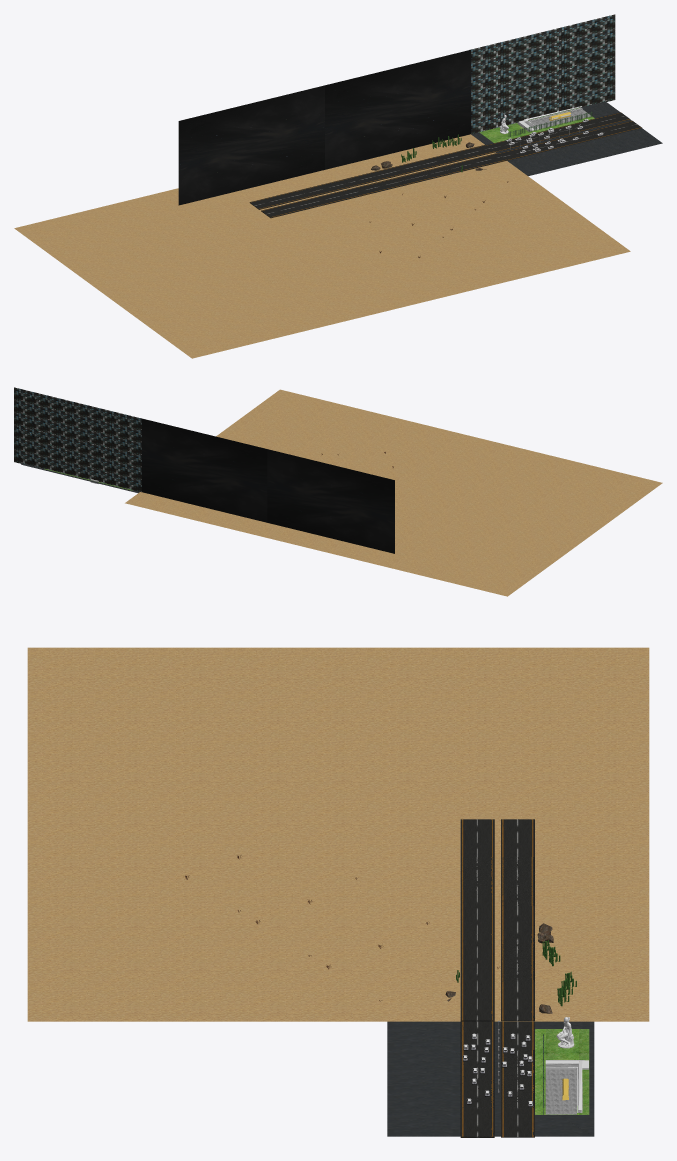
3 views of the same model, one above another, from view 1: azimuth 30°, elevation 25°; view 2: azimuth 150°, elevation 25°; view 3: azimuth 270°, elevation 25° (orthographic). The views are drawn at different scales.
Visible parts, largest first — view 1: PISO STUDIO, EDIFICIOS, EDIFICIOS.001, CALLES.002, PISO STUDIO.001, CALLES.001, PASTO ESTACIÓN.001, ESTACIÓN.026, Jeep_Renegade_2016; view 2: PISO STUDIO, EDIFICIOS, EDIFICIOS.001; view 3: PISO STUDIO, CALLES.002, PISO STUDIO.001, CALLES.001, PASTO ESTACIÓN.001, ESTACIÓN.026, Jeep_Renegade_2016.
Boxes of the visible parts, x1,y1,x2,y2 form: PISO STUDIO: (14,134,630,358); EDIFICIOS: (178,50,471,205); EDIFICIOS.001: (470,14,615,133); CALLES.002: (249,144,506,218); PISO STUDIO.001: (471,101,662,176); CALLES.001: (486,112,641,160); PASTO ESTACIÓN.001: (479,107,594,142); ESTACIÓN.026: (524,106,590,128); Jeep_Renegade_2016: (506,119,603,153); PISO STUDIO: (125,389,662,596); EDIFICIOS: (141,418,394,553); EDIFICIOS.001: (14,387,141,491); PISO STUDIO: (27,647,649,1021); CALLES.002: (460,819,534,1021); PISO STUDIO.001: (387,1021,594,1136); CALLES.001: (460,1021,534,1137); PASTO ESTACIÓN.001: (535,1029,589,1114); ESTACIÓN.026: (545,1060,582,1114); Jeep_Renegade_2016: (462,1033,532,1107).
Bounding box in the file's own units: 139 × 20.7 × 73.47.
Materials: 17 (12 with a texture image).
